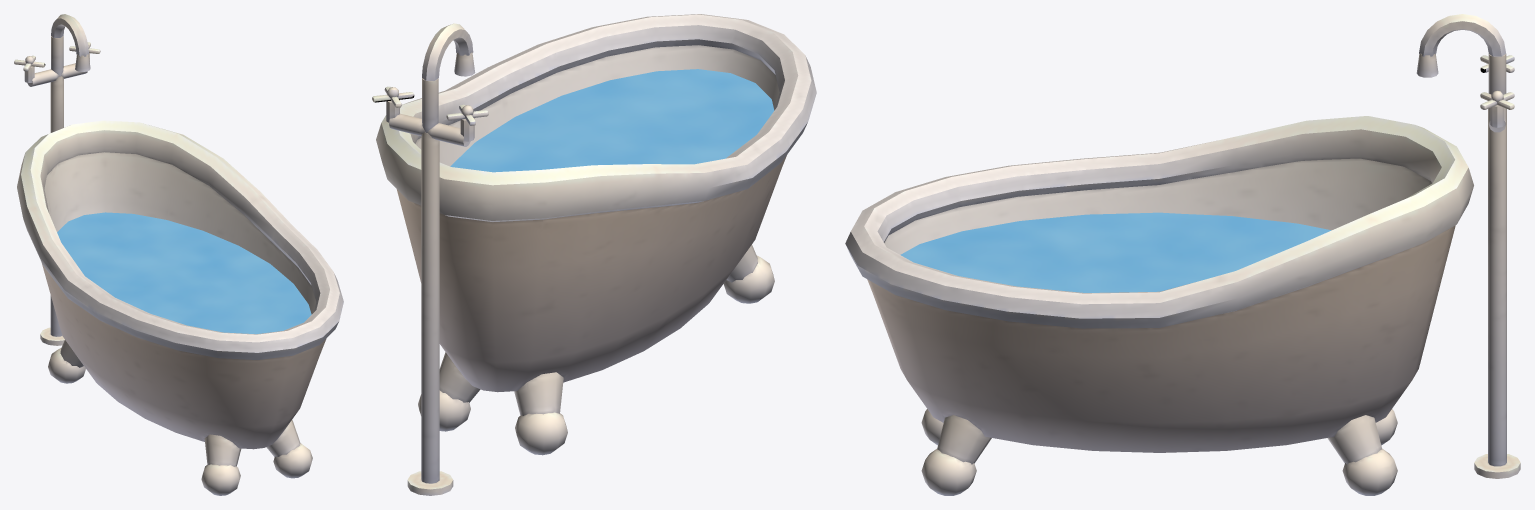
The model's file is Bathtub.glb.
The picture shows the model from 3 angles, left to right: view 1: azimuth 30°, elevation 25°; view 2: azimuth 150°, elevation 25°; view 3: azimuth 270°, elevation 25°; orthographic projection. The views are drawn at different scales.
Visible parts, largest first — view 1: Bathtub, Bathtub_Water; view 2: Bathtub, Bathtub_Water; view 3: Bathtub, Bathtub_Water.
Part boxes in pixels (x1,y1,x2,y2): Bathtub: (14, 14, 343, 495); Bathtub_Water: (57, 212, 311, 334); Bathtub: (372, 14, 816, 495); Bathtub_Water: (450, 69, 774, 172); Bathtub: (845, 14, 1520, 495); Bathtub_Water: (900, 212, 1331, 292).
Size of the model in its own units: 2.72 by 3.72 by 5.
Materials: 1 (1 with a texture image).
